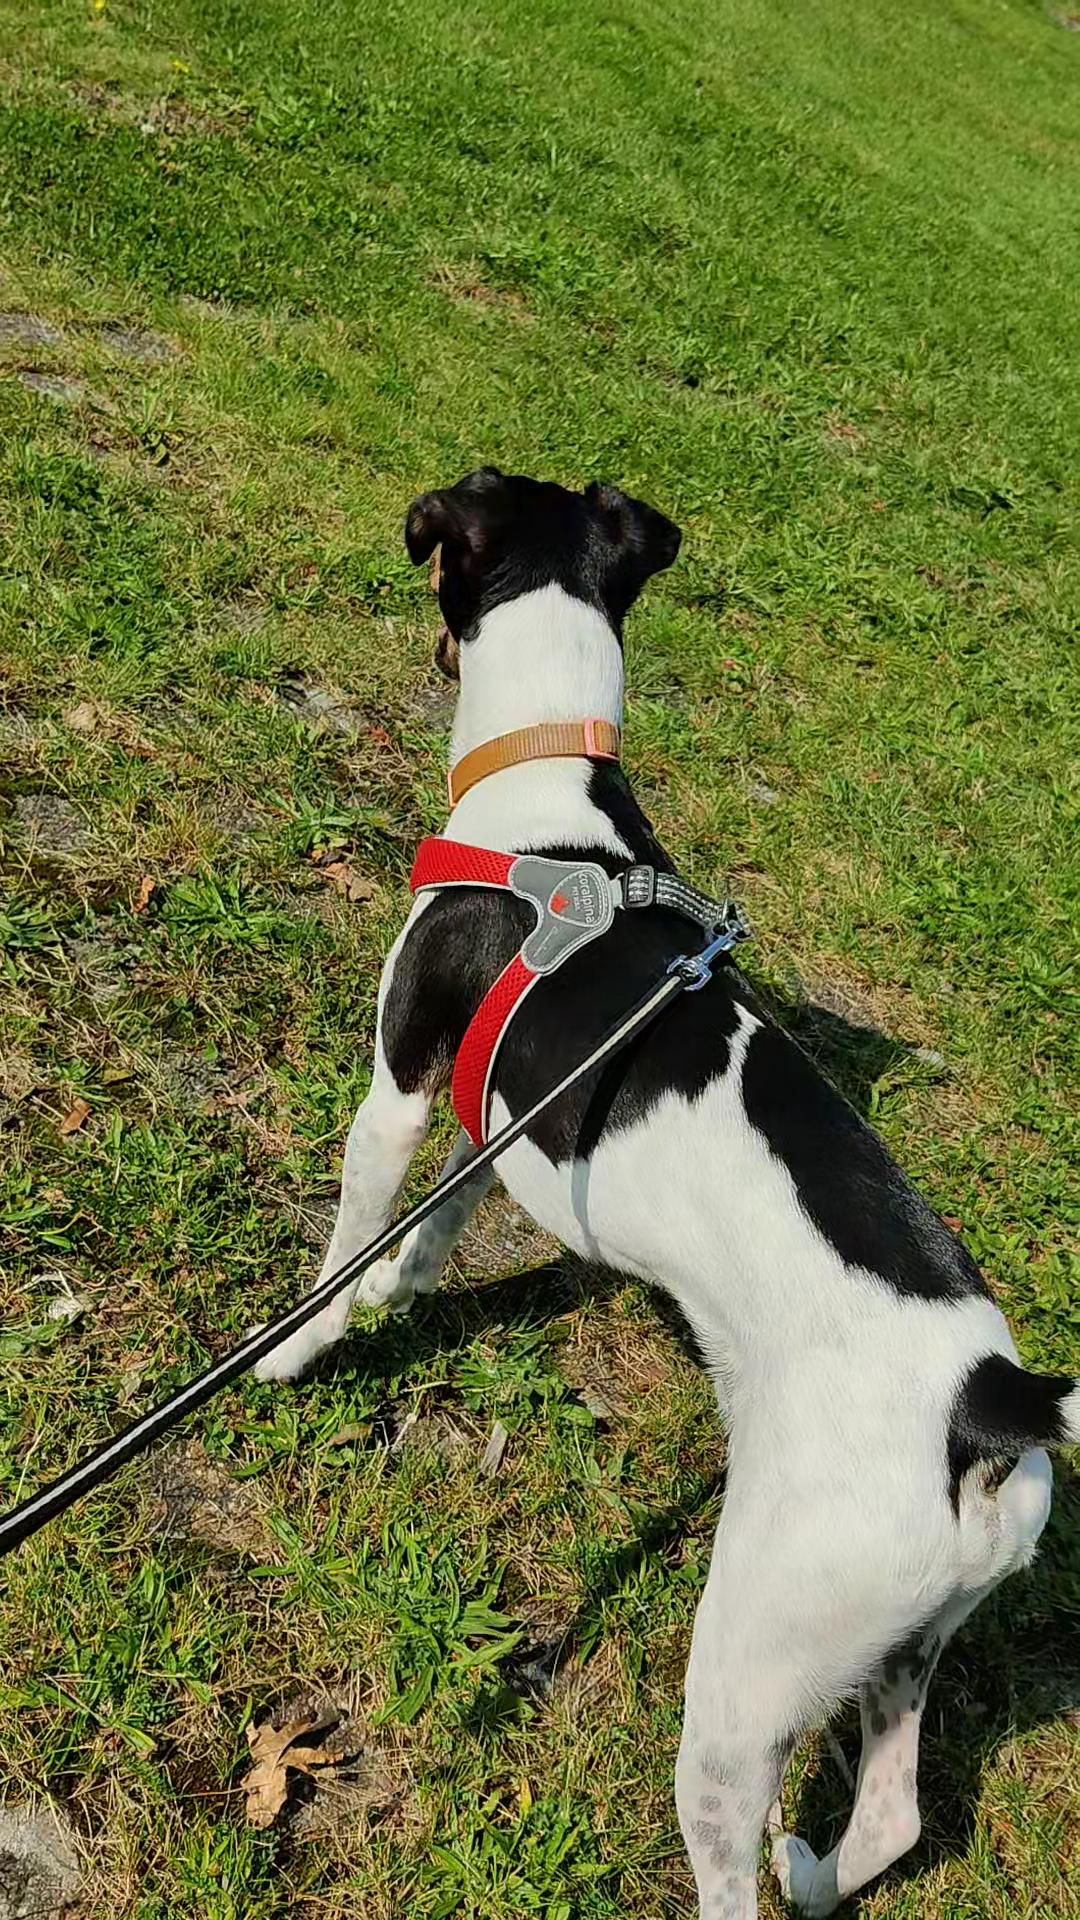Dog: (231, 460, 1079, 1919)
